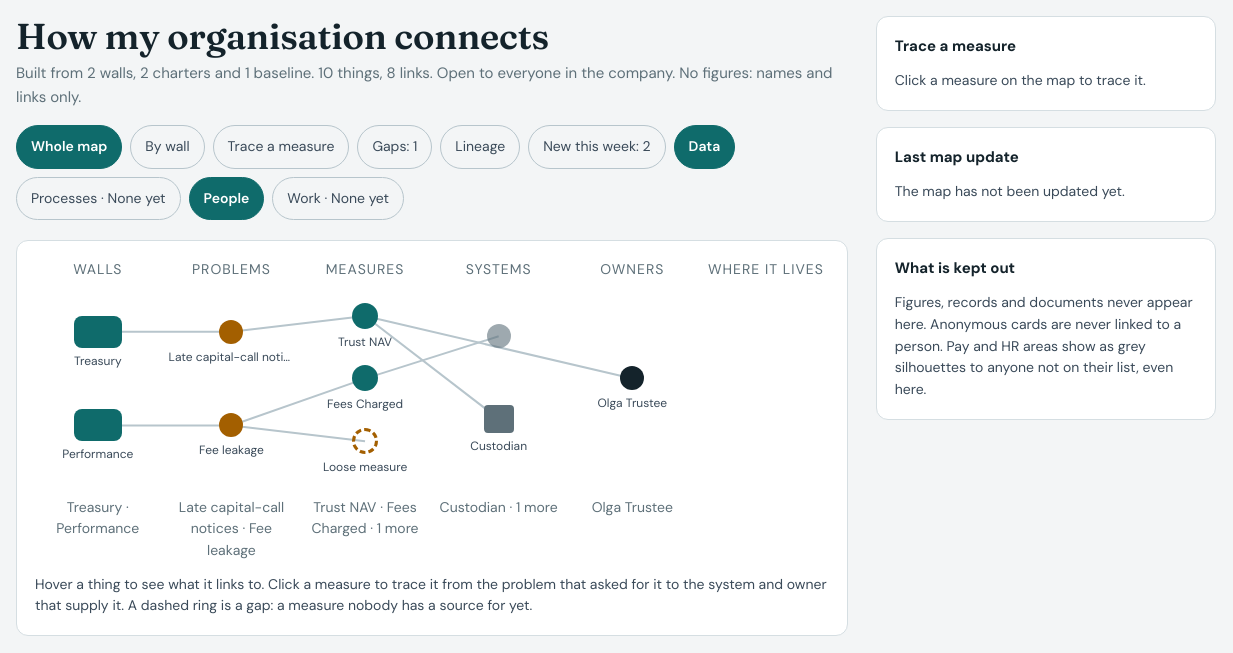
How my organisation connects › clicking a measure selects it and shows its trail with the definition link
This screenshot has width=1233, height=653.
Click the button "Trust NAV".
click(365, 327)  # box [338,303,392,352]
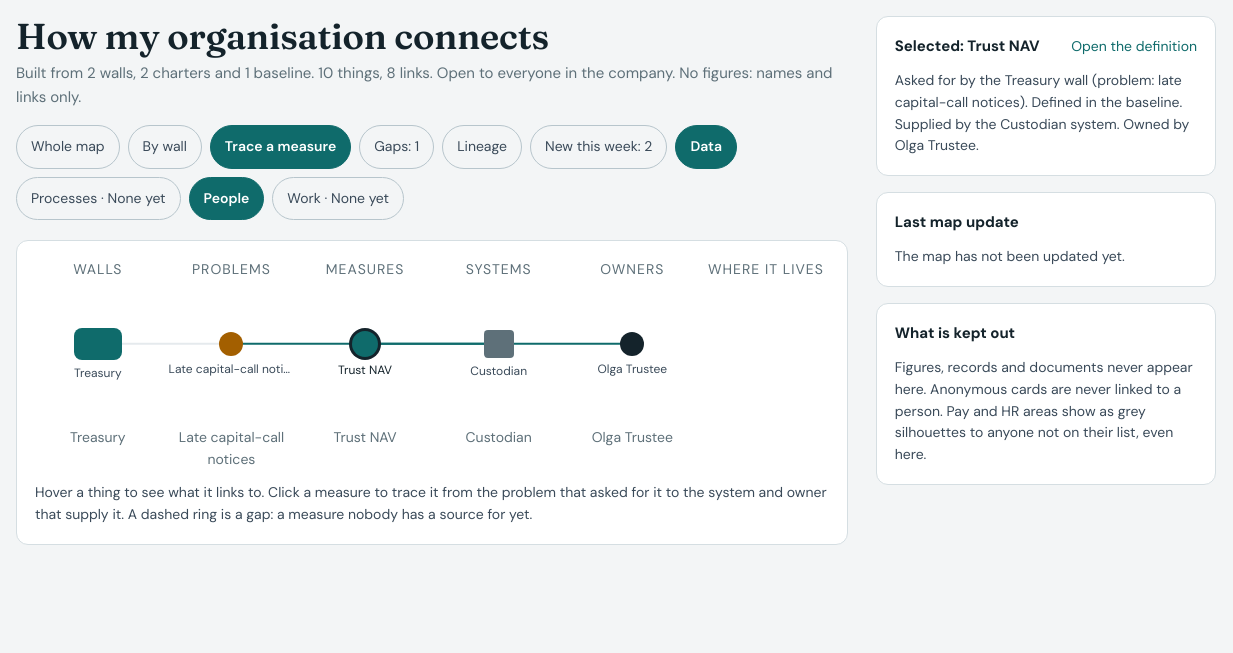
expect the button "Fees Charged" is gone: met
